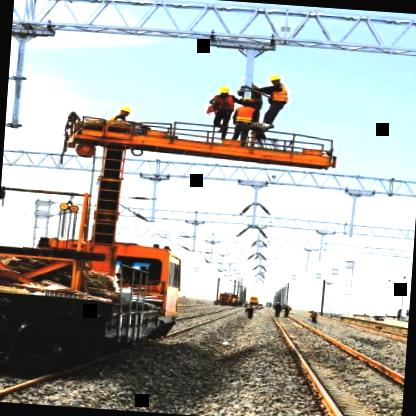helmet: (268, 72, 288, 90), (117, 102, 136, 119), (216, 84, 233, 100)
